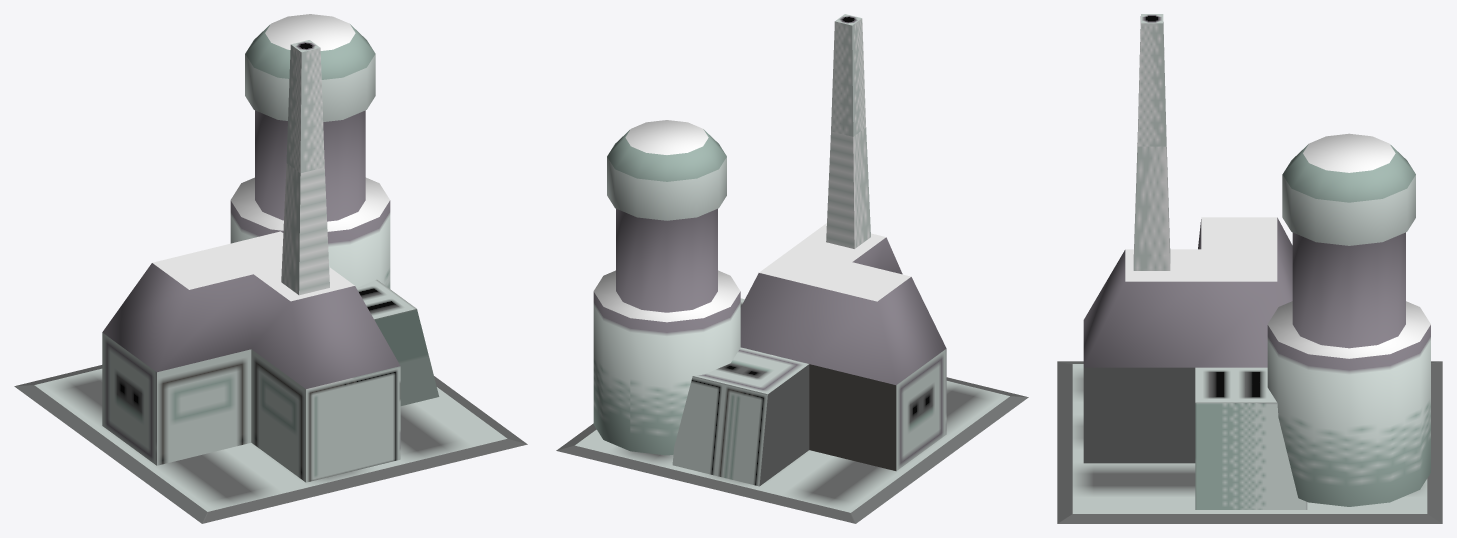
File: Bld_Oil_Refinery_Large03.fbx
3 renders of one model, left to right at view 1: azimuth 30°, elevation 25°; view 2: azimuth 150°, elevation 25°; view 3: azimuth 270°, elevation 25°, orthographic. The views are drawn at different scales.
Visible parts, largest first — view 1: BLD_OilRefinery_Large03; view 2: BLD_OilRefinery_Large03; view 3: BLD_OilRefinery_Large03.
Part boxes in pixels (x1,y1,x2,y2): BLD_OilRefinery_Large03: [14, 14, 527, 523]; BLD_OilRefinery_Large03: [556, 14, 1028, 523]; BLD_OilRefinery_Large03: [1057, 14, 1442, 523].
Size of the model in its own units: 789 by 789 by 947.
